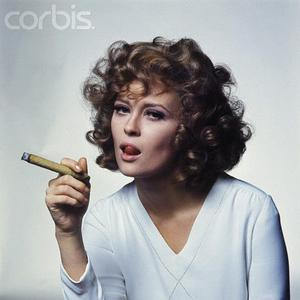cigarette: (19, 148, 94, 186)
